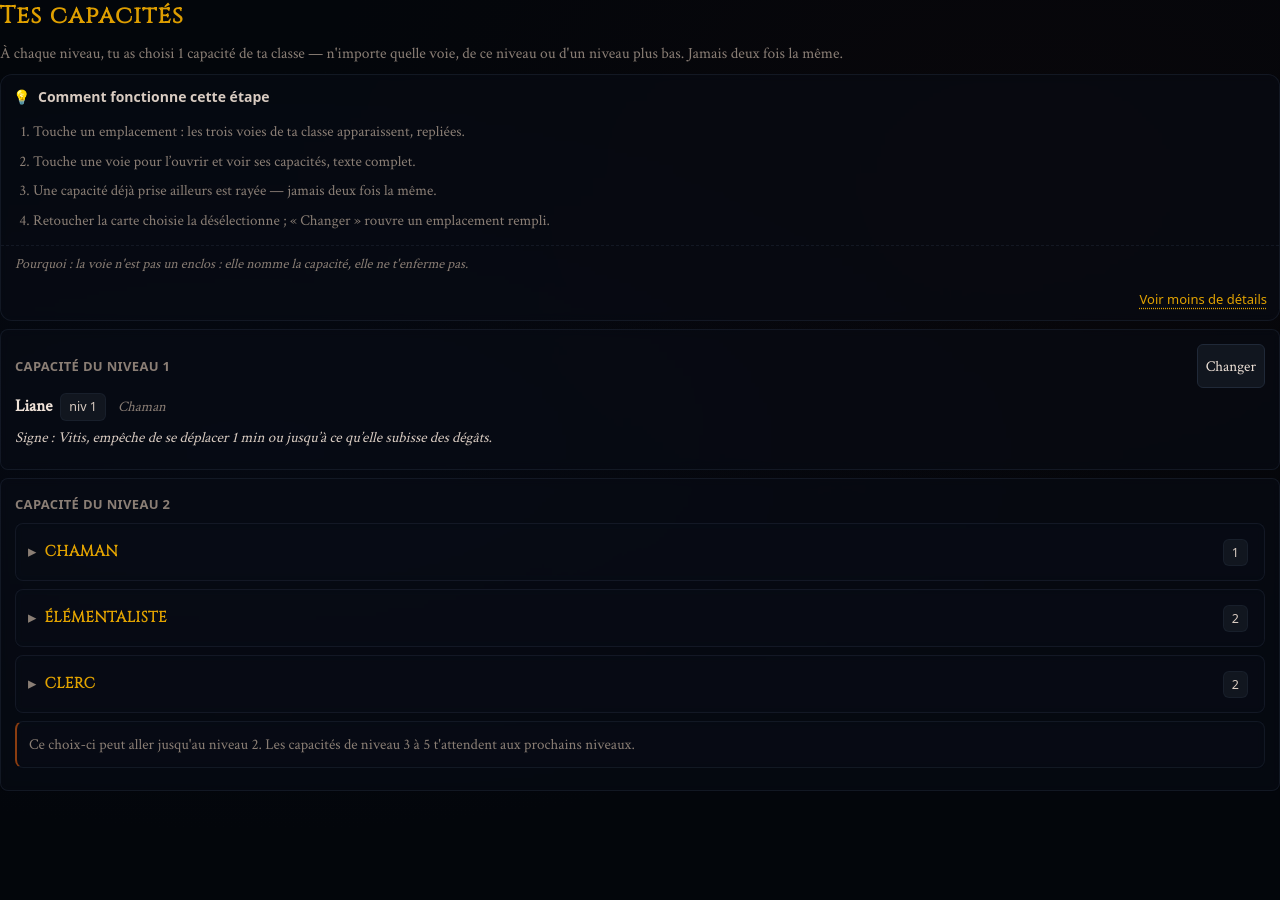
Test: D16 ⑥ — un emplacement par niveau du personnage › l’emplacement ouvert montre les TROIS voies (accordéons), et raye ce qui est déjà pris
The image size is (1280, 900).
Check: the headings read "Chaman", "Élémentaliste", "Clerc", in this order, box [44,539,118,565]; [44,605,167,631]; [44,671,95,697]
Click the button "▸ Chaman 1": (81, 552) [16,524,1264,580]
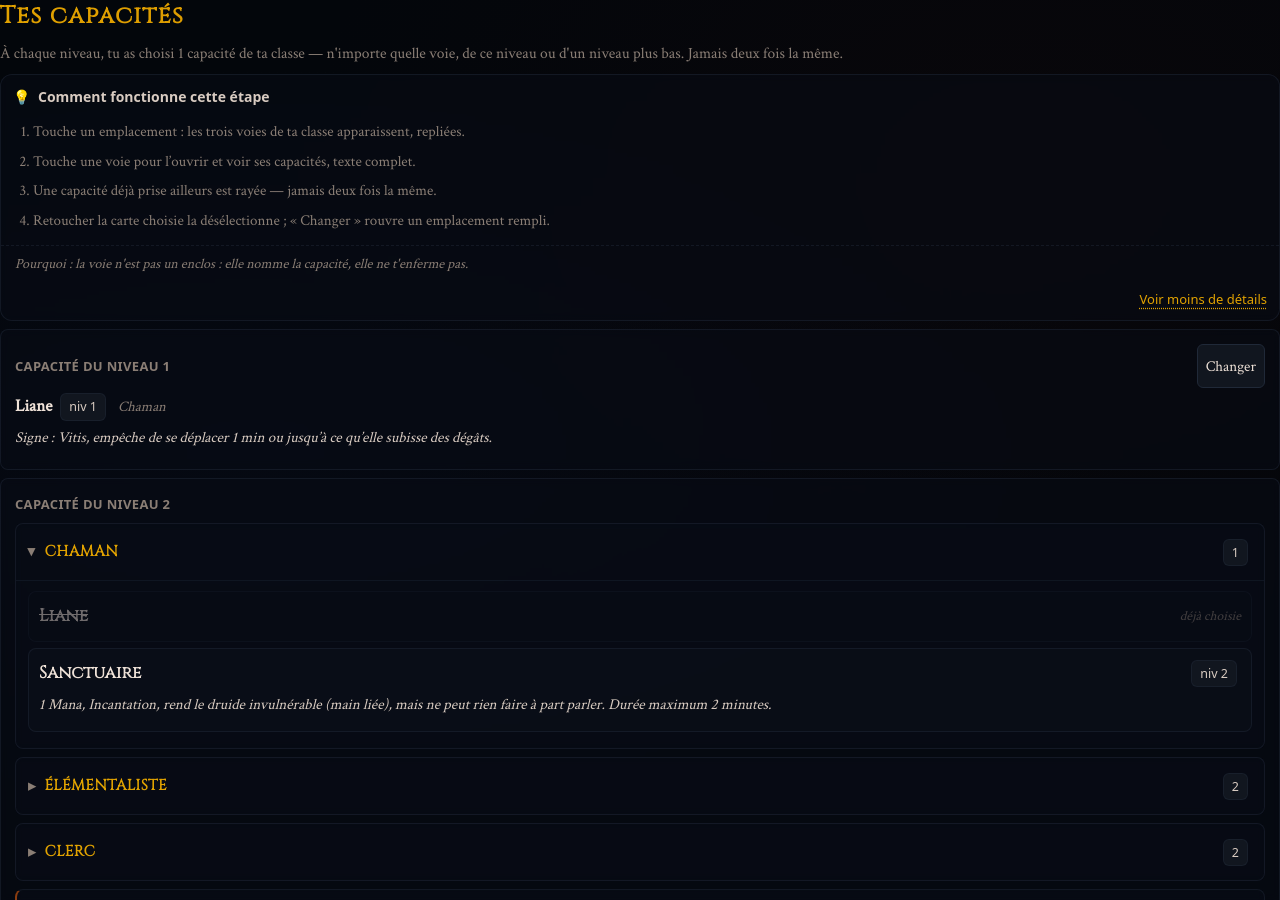
Check: the text "déjà choisie" is shown once, box [1180,605,1241,628]
